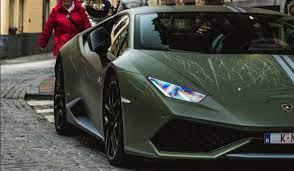bonnet-dent: (131, 46, 293, 121)
